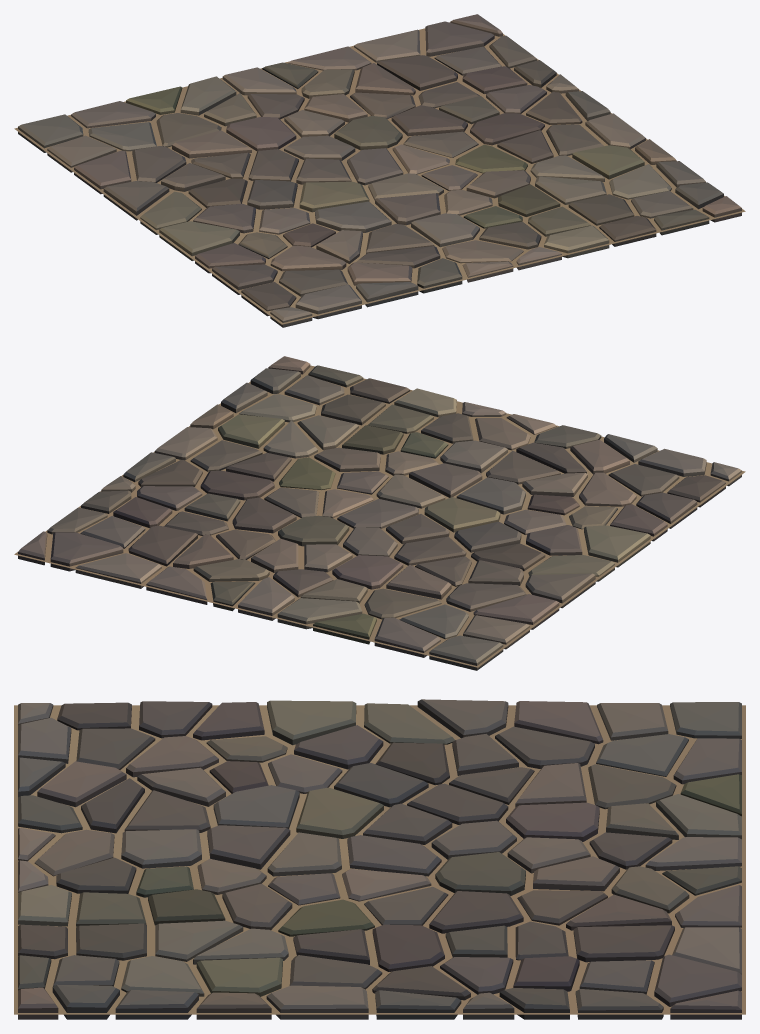
Rendered from empedrado_4x4.glb.
3 views of the same model, one above another, from view 1: azimuth 30°, elevation 25°; view 2: azimuth 150°, elevation 25°; view 3: azimuth 270°, elevation 25° (orthographic). The views are drawn at different scales.
Parts seen in each view (by area): view 1: empedrado_4x4_piezas, empedrado_4x4_fijo; view 2: empedrado_4x4_piezas, empedrado_4x4_fijo; view 3: empedrado_4x4_piezas, empedrado_4x4_fijo.
Boxes of the visible parts, left/top/right/bottom form: empedrado_4x4_piezas: left=18, top=14, right=741, bottom=327; empedrado_4x4_fijo: left=14, top=22, right=745, bottom=324; empedrado_4x4_piezas: left=18, top=356, right=741, bottom=670; empedrado_4x4_fijo: left=14, top=365, right=745, bottom=667; empedrado_4x4_piezas: left=18, top=699, right=741, bottom=1019; empedrado_4x4_fijo: left=14, top=705, right=745, bottom=1014.
Bounding box in the file's own units: 4 × 0.0978 × 4.
